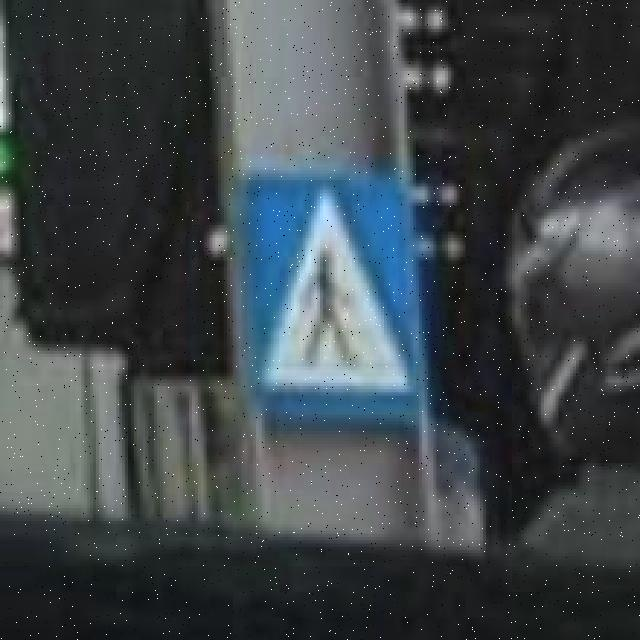Przejscie dla pieszych: (245, 174, 424, 428)
